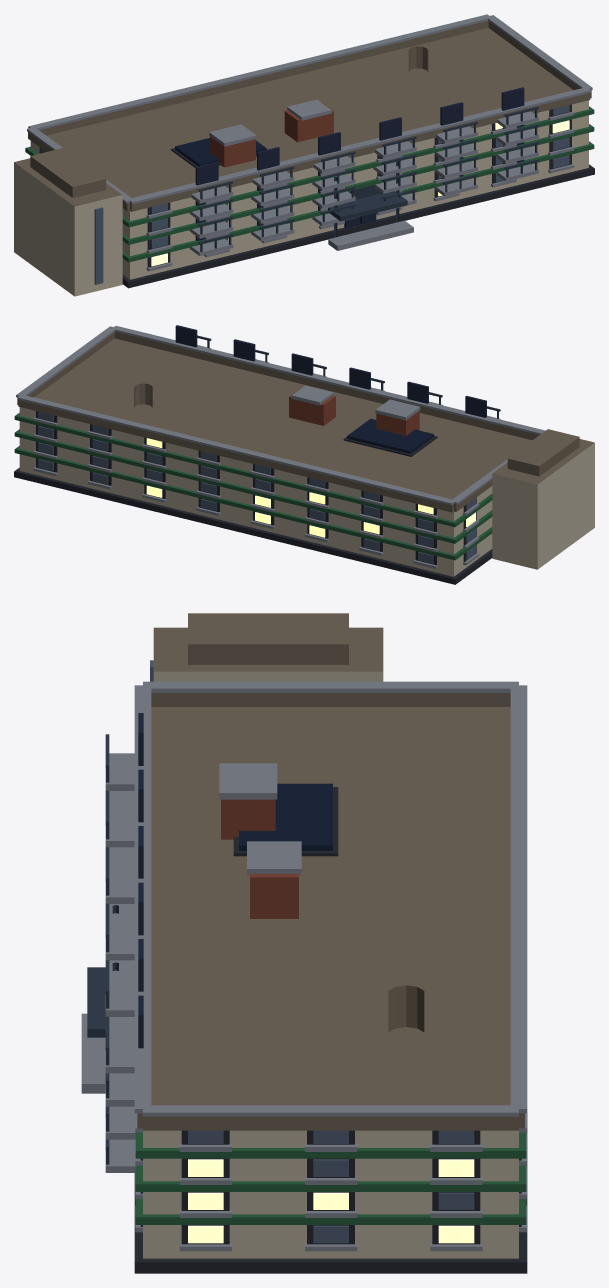
Rendered from girls-high.glb.
The picture shows the model from 3 angles, top to bottom: view 1: azimuth 30°, elevation 25°; view 2: azimuth 150°, elevation 25°; view 3: azimuth 270°, elevation 25°; orthographic projection. The views are drawn at different scales.
Bounding box in the file's own units: 108 × 20.5 × 42.7.
